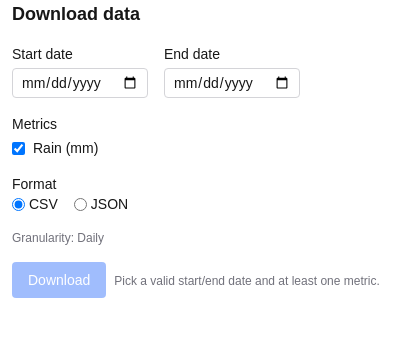
DownloadPanel › shows the server error message when the request fails
The image size is (396, 351).
Type "2020-01-01" into the date field labelled "Start date" at (80, 83), box [12,68,148,98]
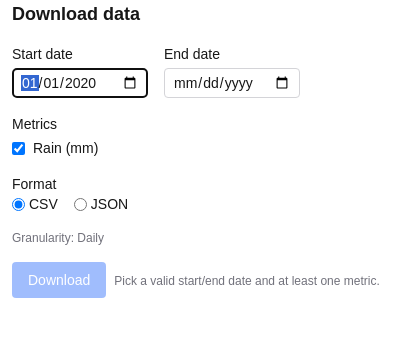
Type "2026-01-01" into the date field labelled "End date" at (232, 83), box [164,68,300,98]
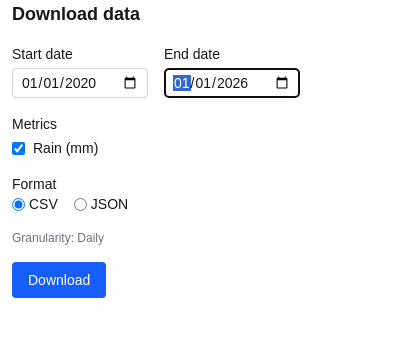
Click the button "Download" at (59, 280), box [12,262,106,298]
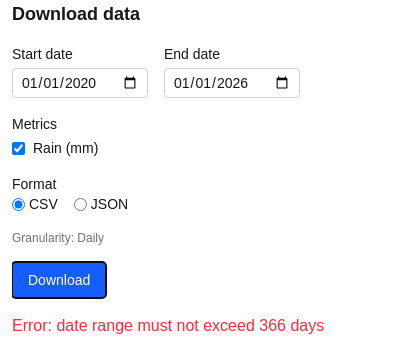
Expected: the message shows "366 days", [56,317,324,334]
